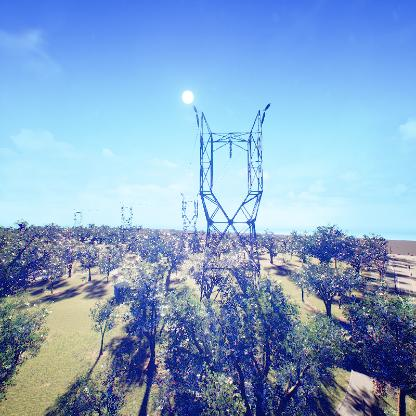tower: (188, 100, 276, 301), (178, 190, 201, 251)
